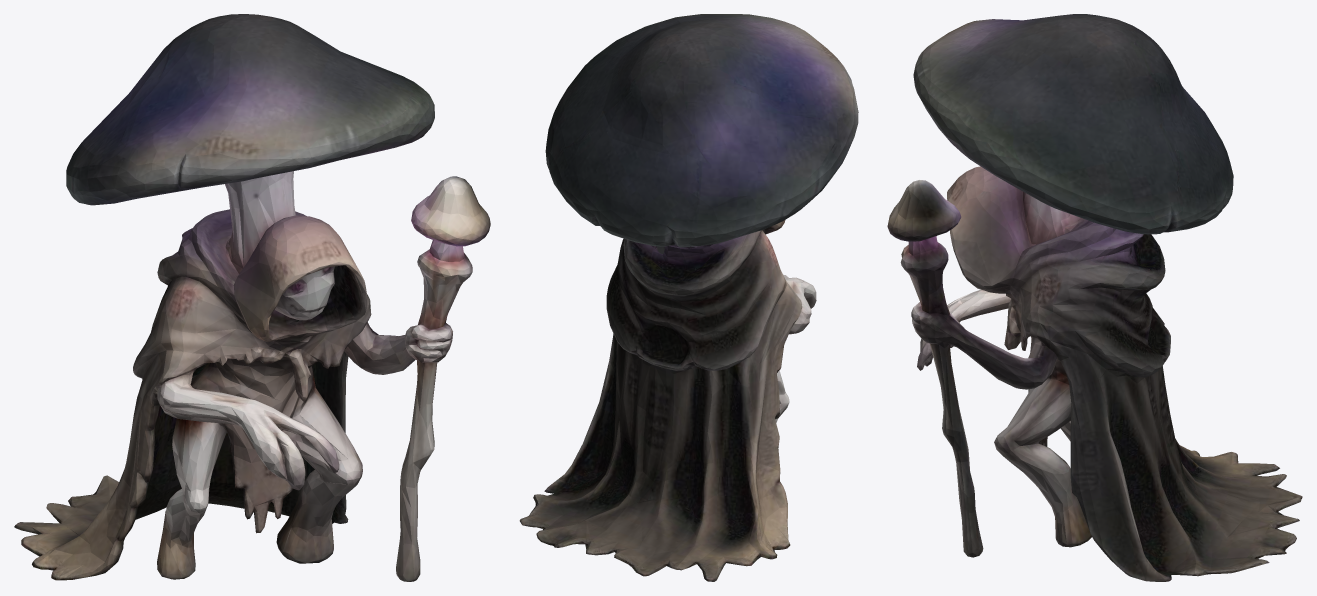
File: gloomMushroomShaman.glb
The picture shows the model from 3 angles, left to right: view 1: azimuth 30°, elevation 25°; view 2: azimuth 150°, elevation 25°; view 3: azimuth 270°, elevation 25°; orthographic projection. The views are drawn at different scales.
Visible parts, largest first — view 1: world; view 2: world; view 3: world.
Boxes of the visible parts, x1,y1,x2,y2 form: world: (14,14,490,581); world: (519,14,858,581); world: (887,14,1302,581).
Size of the model in its own units: 0.5985 by 0.9599 by 0.7239.
1 material, 1 textured.
